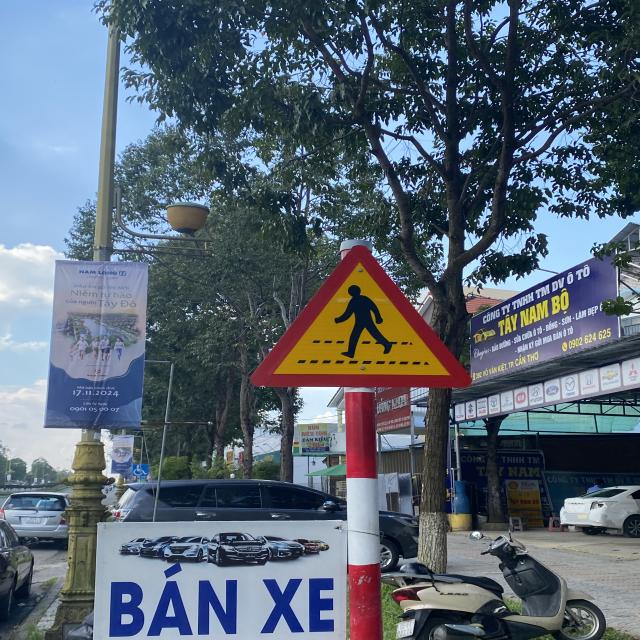Duong_Nguoi_Di_Bo_Sang_Ngang: (251, 245, 468, 388)
